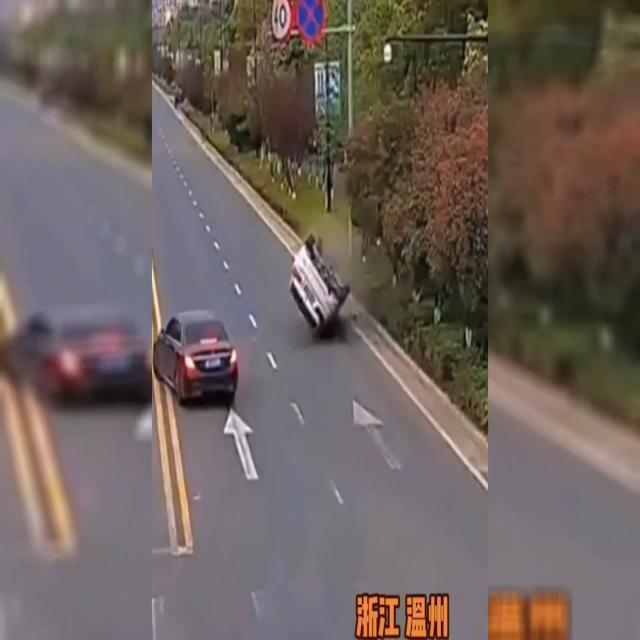accident: (289, 234, 351, 332)
